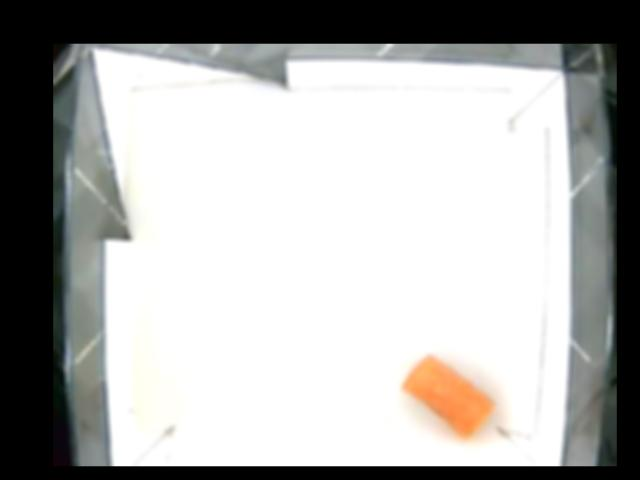Carrot: (404, 353, 494, 440)
